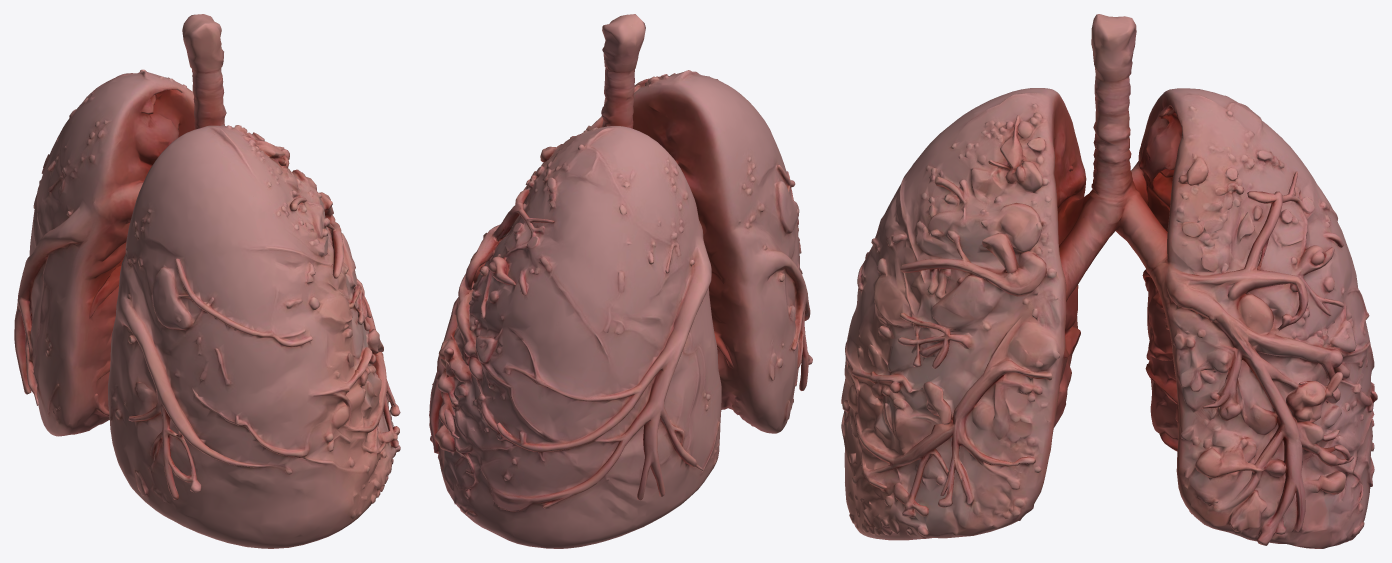
Rendered from lungs.glb.
3 renders of one model, left to right at view 1: azimuth 30°, elevation 25°; view 2: azimuth 150°, elevation 25°; view 3: azimuth 270°, elevation 25°, orthographic. The views are drawn at different scales.
Visible parts, largest first — view 1: tripo_node_9f3842a9-06fe-49c4-87e3-f7364d5b3288; view 2: tripo_node_9f3842a9-06fe-49c4-87e3-f7364d5b3288; view 3: tripo_node_9f3842a9-06fe-49c4-87e3-f7364d5b3288.
Part boxes in pixels (left/top/right/bottom): tripo_node_9f3842a9-06fe-49c4-87e3-f7364d5b3288: left=14, top=14, right=400, bottom=548; tripo_node_9f3842a9-06fe-49c4-87e3-f7364d5b3288: left=429, top=14, right=812, bottom=548; tripo_node_9f3842a9-06fe-49c4-87e3-f7364d5b3288: left=841, top=14, right=1377, bottom=548.
Bounding box in the file's own units: 0.5955 × 1 × 0.9473.
1 material, 1 textured.
